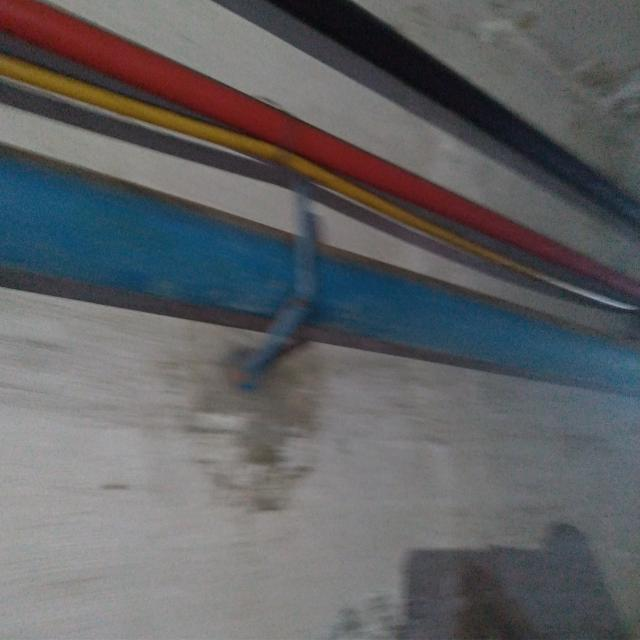gas: (5, 0, 640, 302), (4, 144, 640, 394), (288, 2, 640, 231)
